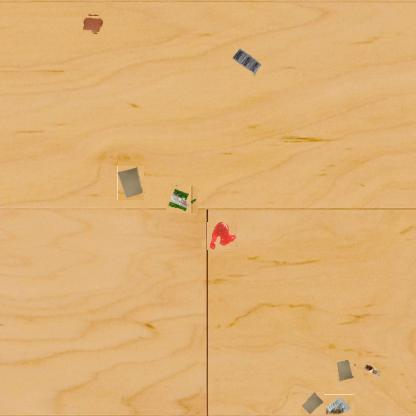dirty: (117, 166, 144, 200), (167, 184, 197, 214), (232, 48, 262, 76), (324, 394, 354, 415), (300, 391, 324, 415), (338, 360, 356, 382), (364, 362, 384, 380)
liquid: (208, 221, 237, 251), (84, 14, 104, 34)
